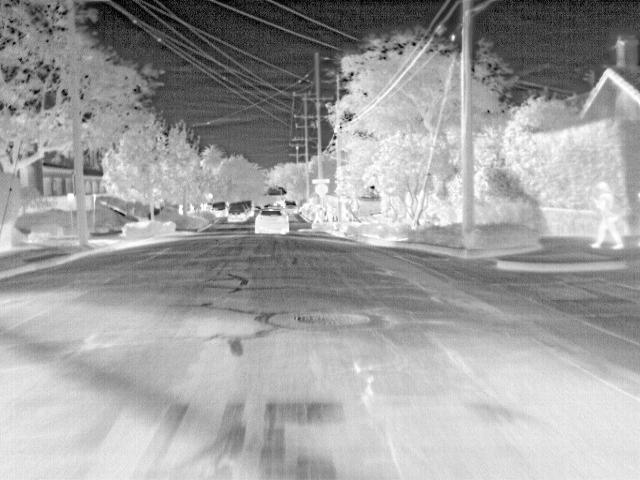car: (252, 210, 290, 235), (227, 204, 247, 222), (233, 200, 252, 218), (241, 198, 255, 216), (212, 200, 226, 216), (284, 200, 299, 214)
person: (587, 181, 625, 250), (322, 203, 334, 223), (313, 209, 323, 226)
